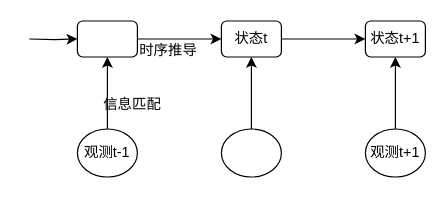
The diagram is 446 pixels wide and 198 high, and some of its shapes have lost their labels. Each missing label, with the centre of its shape:
"状态t-1" belongs at point 106,38.
"观测t" belongs at point 250,152.
